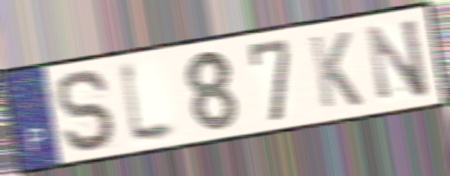7: (246, 37, 292, 124)
8: (183, 48, 241, 133)
K: (306, 29, 366, 112)
L: (116, 56, 185, 150)
N: (363, 15, 432, 103)
S: (55, 67, 121, 154)
